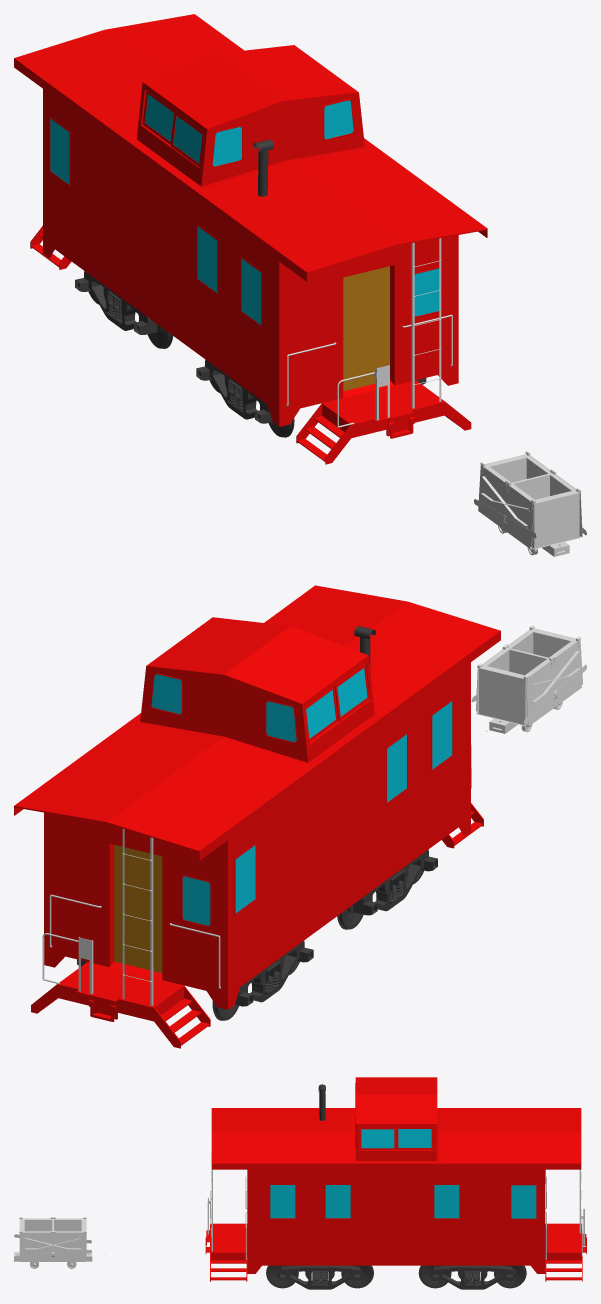
The model's file is Tren21.fbx.
The picture shows the model from 3 angles, top to bottom: view 1: azimuth 30°, elevation 25°; view 2: azimuth 150°, elevation 25°; view 3: azimuth 270°, elevation 25°; orthographic projection. The views are drawn at different scales.
Parts seen in each view (by area): view 1: Cube, Base, Cube.001, Puerta.001, Cube.003, Circle.001, Plane.001; view 2: Cube, Base, Cube.001, Puerta.001, Cube.003, Circle.001, Plane.002; view 3: Cube, Cube.001, Puerta, Circle.001, Base, Cube.003, Cube.002.
Boxes of the visible parts, <box> form: Cube: <box>14,14,487,464</box>; Base: <box>484,454,580,549</box>; Cube.001: <box>75,271,426,423</box>; Puerta.001: <box>474,463,536,548</box>; Cube.003: <box>411,238,441,408</box>; Circle.001: <box>78,282,294,437</box>; Plane.001: <box>337,364,389,427</box>; Cube: <box>14,585,500,1048</box>; Base: <box>476,628,577,726</box>; Cube.001: <box>77,850,437,1006</box>; Puerta.001: <box>524,637,586,726</box>; Cube.003: <box>122,828,153,1005</box>; Circle.001: <box>212,849,434,1020</box>; Plane.002: <box>42,933,93,994</box>; Cube: <box>205,1077,586,1281</box>; Cube.001: <box>279,1265,512,1289</box>; Puerta: <box>14,1230,91,1261</box>; Circle.001: <box>266,1265,526,1288</box>; Base: <box>19,1218,86,1261</box>; Cube.003: <box>211,1135,581,1251</box>; Cube.002: <box>312,1271,480,1279</box>.
Size of the model in its own units: 706 by 1037 by 3075.
